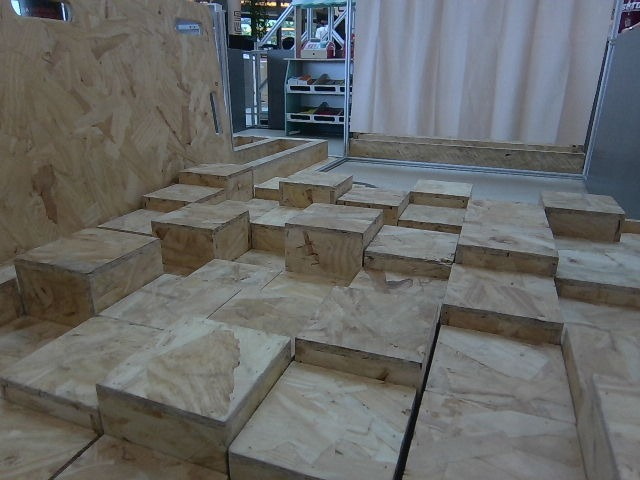curtain: (352, 0, 582, 154)
